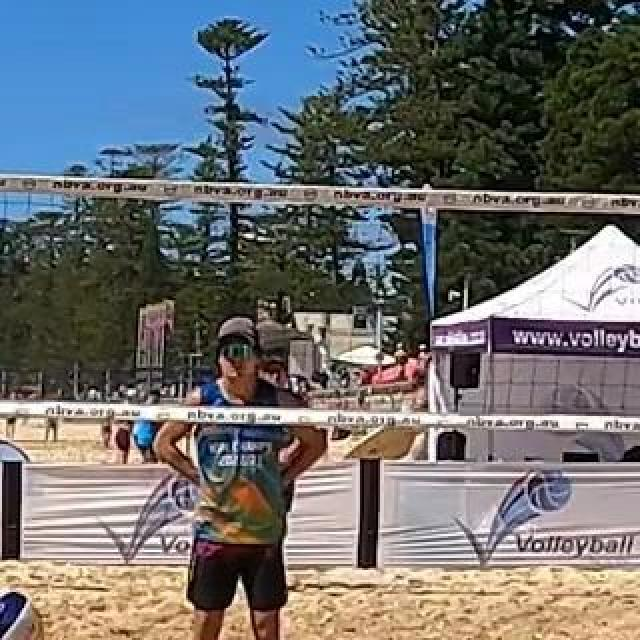volleyball: (0, 580, 52, 640)
